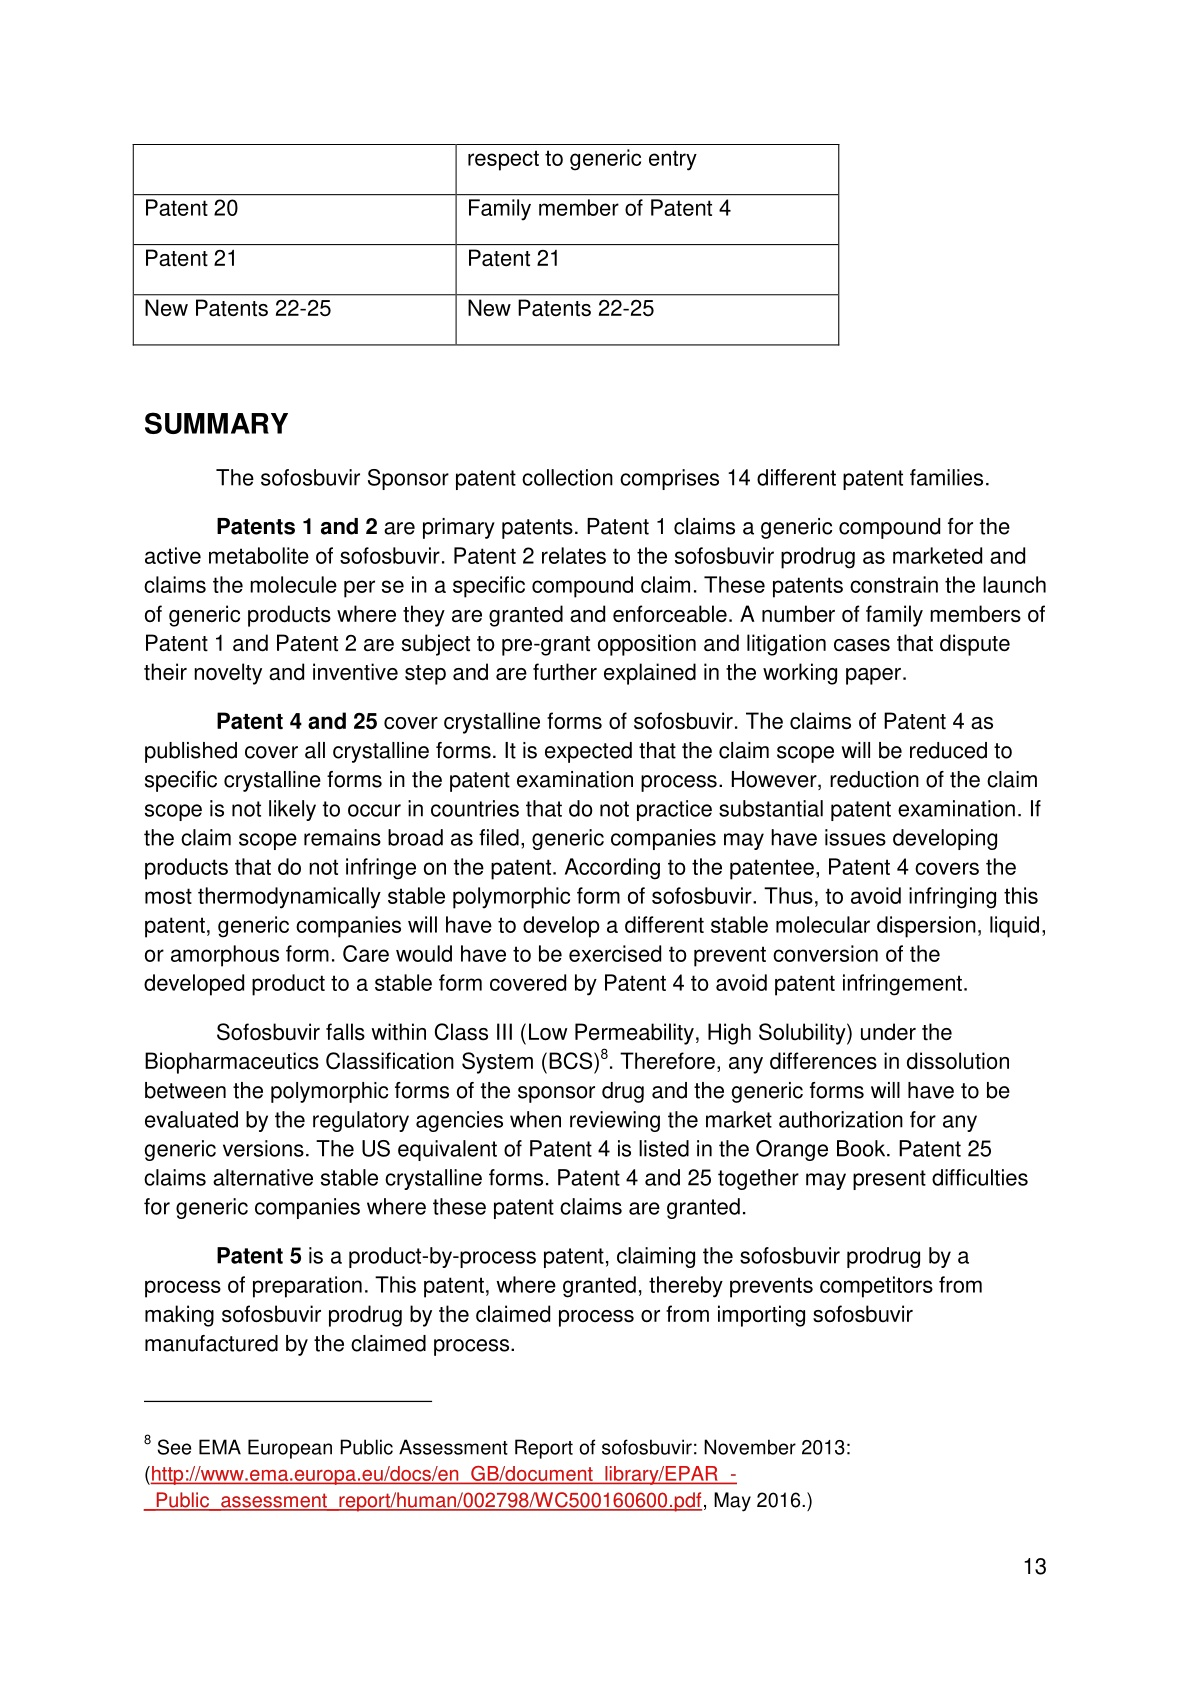full_lined: (131, 143, 840, 347)
